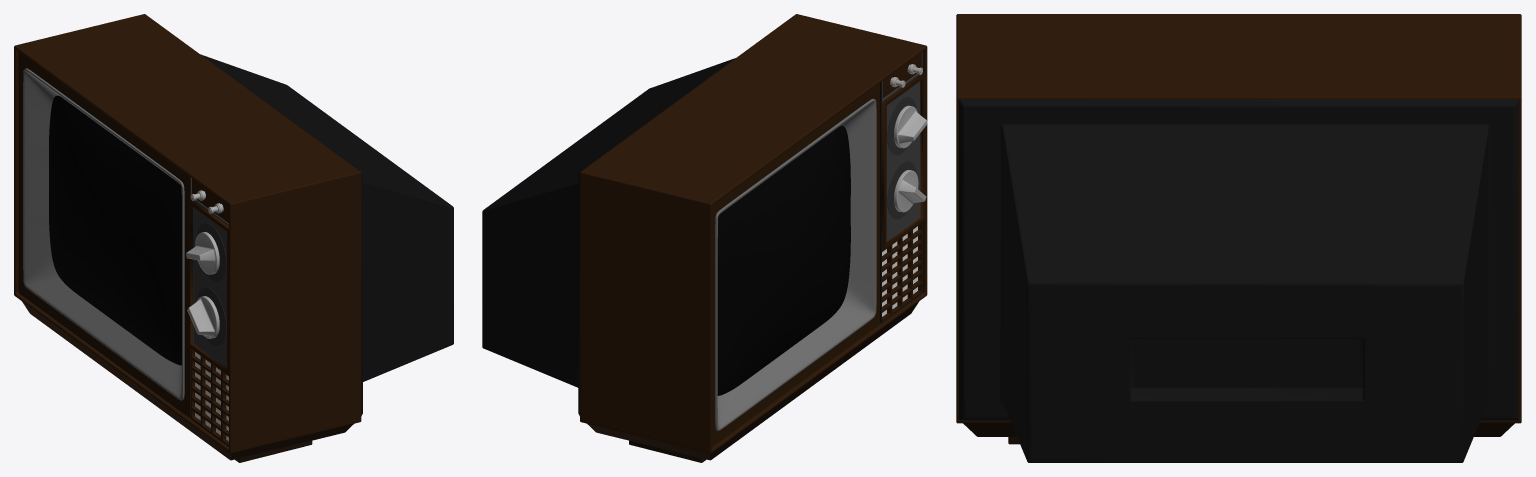
Rendered from 空物体.001.fbx.
3 views of the same model, side by side, from view 1: azimuth 30°, elevation 25°; view 2: azimuth 150°, elevation 25°; view 3: azimuth 270°, elevation 25° (orthographic). The views are drawn at different scales.
Visible parts, largest first — view 1: caixa, molduraTela, parte traseira, entornoTela.001, base, saidaSom, botao_2, botao_1, entornoTela.002, detalhe, detalhe.001; view 2: caixa, molduraTela, parte traseira, entornoTela.001, saidaSom, base, botao_1, botao_2, entornoTela.002, entornoTela, detalhe.001, detalhe; view 3: parte traseira, caixa, base.
Boxes of the visible parts, x1,y1,x2,y2 form: caixa: (14, 14, 361, 453); molduraTela: (18, 52, 190, 418); parte traseira: (200, 54, 453, 415); entornoTela.001: (188, 198, 228, 376); base: (22, 301, 353, 462); saidaSom: (191, 349, 228, 445); botao_2: (187, 296, 219, 338); botao_1: (186, 232, 219, 274); entornoTela.002: (190, 178, 228, 225); detalhe: (196, 223, 226, 281); detalhe.001: (196, 287, 226, 345); caixa: (580, 14, 927, 453); molduraTela: (712, 83, 879, 446); parte traseira: (482, 58, 735, 415); entornoTela.001: (881, 72, 925, 250); saidaSom: (881, 223, 922, 322); base: (587, 301, 918, 462); botao_1: (894, 105, 927, 148); botao_2: (894, 170, 926, 212); entornoTela.002: (881, 51, 922, 100); entornoTela: (880, 74, 921, 322); detalhe.001: (887, 161, 916, 219); detalhe: (887, 97, 916, 155); parte traseira: (959, 99, 1518, 462); caixa: (956, 14, 1521, 423); base: (963, 423, 1514, 444).
Size of the model in its own units: 60.14 by 60.69 by 84.69.
